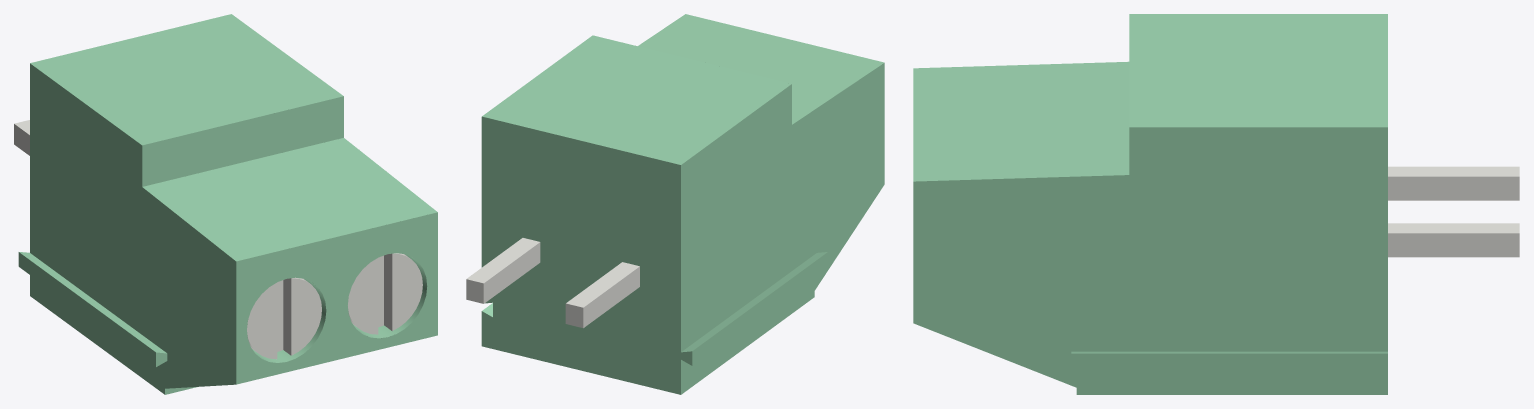
Rendered from TerminalBlock_Phoenix_MKDS-3-2-5.08_1x02_P5.08mm_Horizontal.glb.
The picture shows the model from 3 angles, left to right: view 1: azimuth 30°, elevation 25°; view 2: azimuth 150°, elevation 25°; view 3: azimuth 270°, elevation 25°; orthographic projection. The views are drawn at different scales.
Visible parts, largest first — view 1: Shape_IndexedFaceSet, Shape_IndexedFaceSet.005, Shape_IndexedFaceSet.003, Shape_IndexedFaceSet.002, Shape_IndexedFaceSet.004, Shape_IndexedFaceSet.015, Shape_IndexedFaceSet.090, Shape_IndexedFaceSet.095, Shape_IndexedFaceSet.099, Shape_IndexedFaceSet.094, Shape_IndexedFaceSet.007, Shape_IndexedFaceSet.014 (+5 smaller); view 2: Shape_IndexedFaceSet.006, Shape_IndexedFaceSet, Shape_IndexedFaceSet.005, Shape_IndexedFaceSet.003, Shape_IndexedFaceSet.015, Shape_IndexedFaceSet.024, Shape_IndexedFaceSet.020, Shape_IndexedFaceSet.007, Shape_IndexedFaceSet.021, Shape_IndexedFaceSet.025, Shape_IndexedFaceSet.064, Shape_IndexedFaceSet.065; view 3: Shape_IndexedFaceSet.012, Shape_IndexedFaceSet.005, Shape_IndexedFaceSet.003, Shape_IndexedFaceSet.022, Shape_IndexedFaceSet.026, Shape_IndexedFaceSet.017, Shape_IndexedFaceSet.021, Shape_IndexedFaceSet.025, Shape_IndexedFaceSet.016.
Part boxes in pixels (box(x1,y1,x2,y2)): Shape_IndexedFaceSet: box(30, 63, 236, 394); Shape_IndexedFaceSet.005: box(30, 14, 343, 145); Shape_IndexedFaceSet.003: box(142, 138, 437, 261); Shape_IndexedFaceSet.002: box(236, 212, 437, 384); Shape_IndexedFaceSet.004: box(142, 96, 343, 186); Shape_IndexedFaceSet.015: box(18, 252, 155, 366); Shape_IndexedFaceSet.090: box(291, 278, 321, 355); Shape_IndexedFaceSet.095: box(392, 253, 422, 330); Shape_IndexedFaceSet.099: box(348, 258, 378, 334); Shape_IndexedFaceSet.094: box(247, 282, 277, 359); Shape_IndexedFaceSet.007: box(19, 252, 166, 353); Shape_IndexedFaceSet.014: box(353, 254, 427, 338); Shape_IndexedFaceSet.006: box(481, 116, 692, 394); Shape_IndexedFaceSet: box(681, 63, 884, 394); Shape_IndexedFaceSet.005: box(482, 35, 791, 164); Shape_IndexedFaceSet.003: box(638, 14, 884, 124); Shape_IndexedFaceSet.015: box(692, 252, 827, 365); Shape_IndexedFaceSet.024: box(483, 242, 540, 303); Shape_IndexedFaceSet.020: box(583, 266, 639, 327); Shape_IndexedFaceSet.007: box(681, 252, 827, 352); Shape_IndexedFaceSet.021: box(566, 262, 639, 307); Shape_IndexedFaceSet.025: box(466, 238, 539, 283); Shape_IndexedFaceSet.064: box(565, 303, 583, 327); Shape_IndexedFaceSet.065: box(466, 279, 483, 303); Shape_IndexedFaceSet.012: box(913, 127, 1387, 394); Shape_IndexedFaceSet.005: box(1129, 14, 1387, 127); Shape_IndexedFaceSet.003: box(913, 61, 1129, 181); Shape_IndexedFaceSet.022: box(1388, 176, 1519, 200); Shape_IndexedFaceSet.026: box(1388, 233, 1519, 257); Shape_IndexedFaceSet.017: box(1071, 345, 1387, 351); Shape_IndexedFaceSet.021: box(1388, 166, 1519, 176); Shape_IndexedFaceSet.025: box(1388, 223, 1519, 233); Shape_IndexedFaceSet.016: box(1071, 351, 1387, 353).
Bounding box in the file's own units: 4.22 × 4.41 × 9.06.
